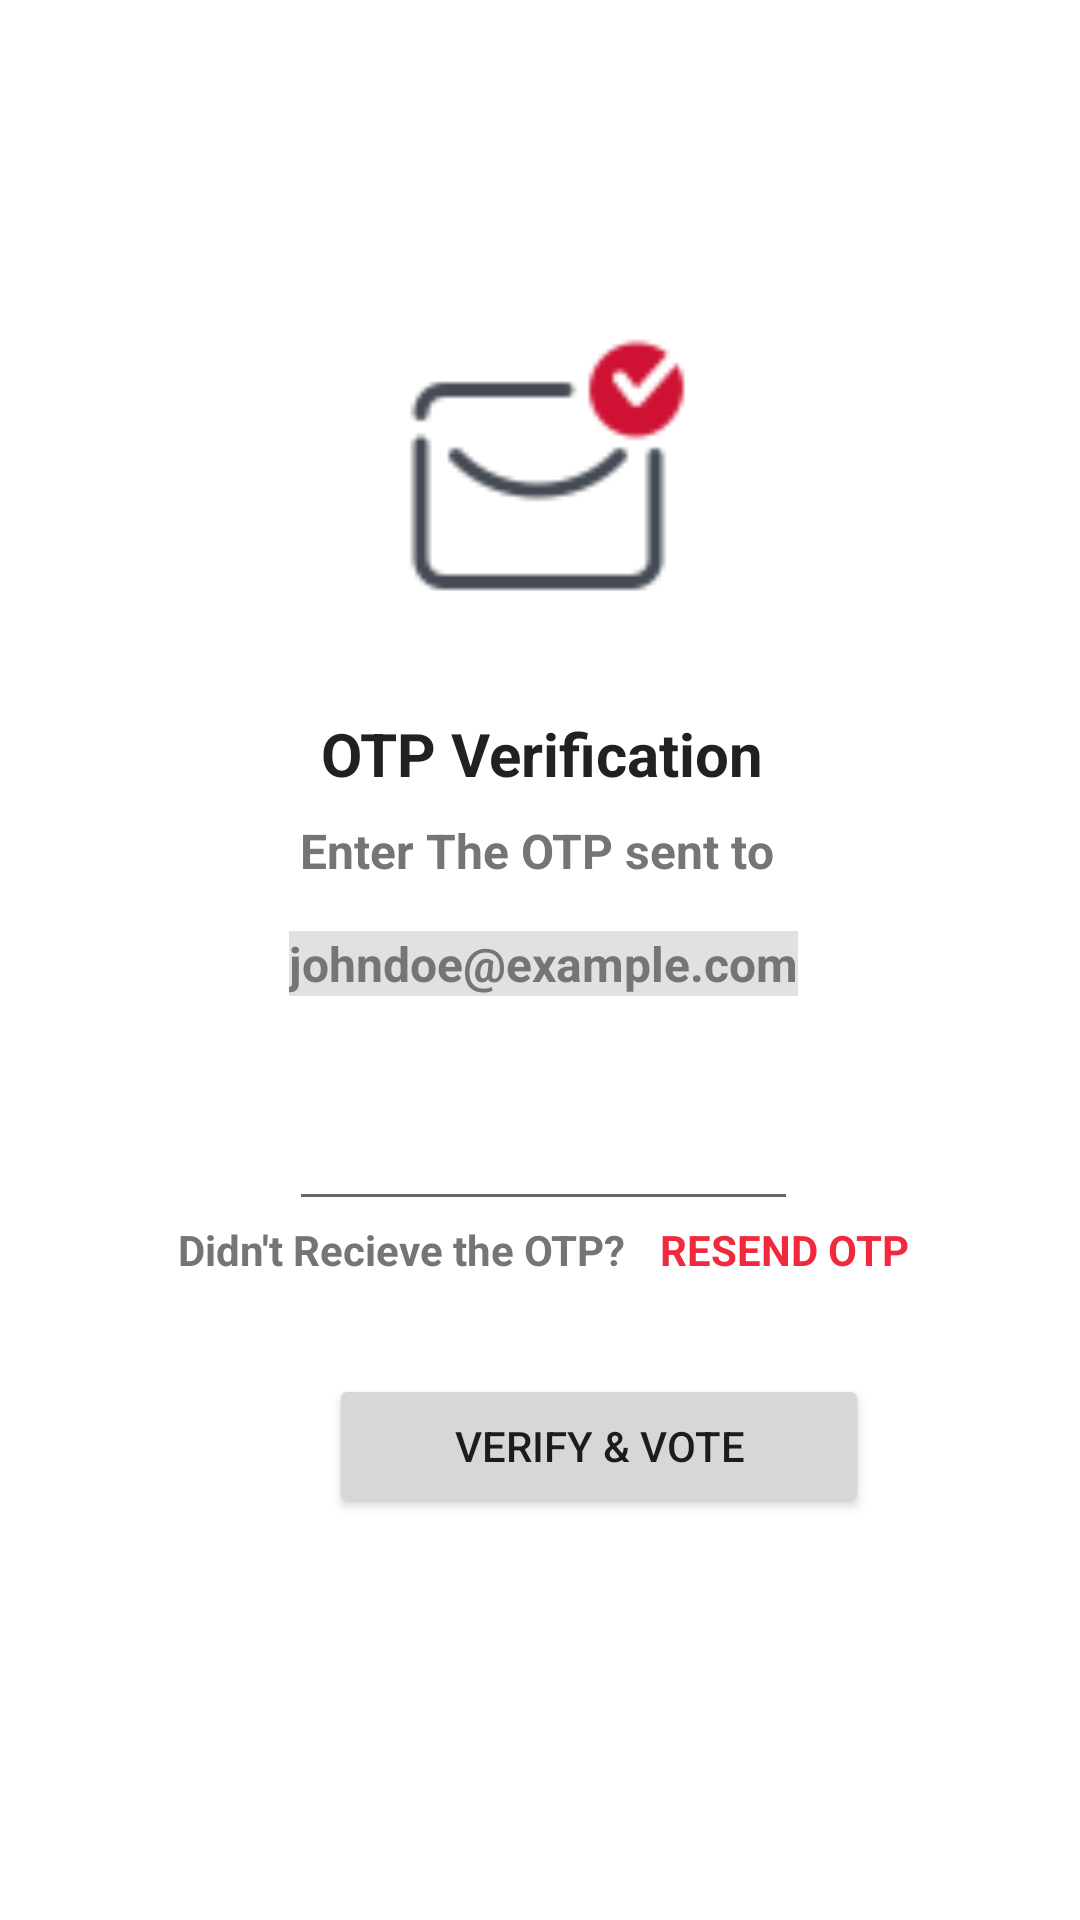

Icon click points for this 1080 × 1920 phone screenshot, format (x=x, y=y):
received: (x=547, y=465)
